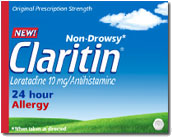grozi_39: (0, 0, 170, 136)
